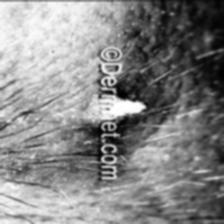Potentially Malignant Skin Tumors: (116, 92, 140, 118), (130, 95, 156, 113)
